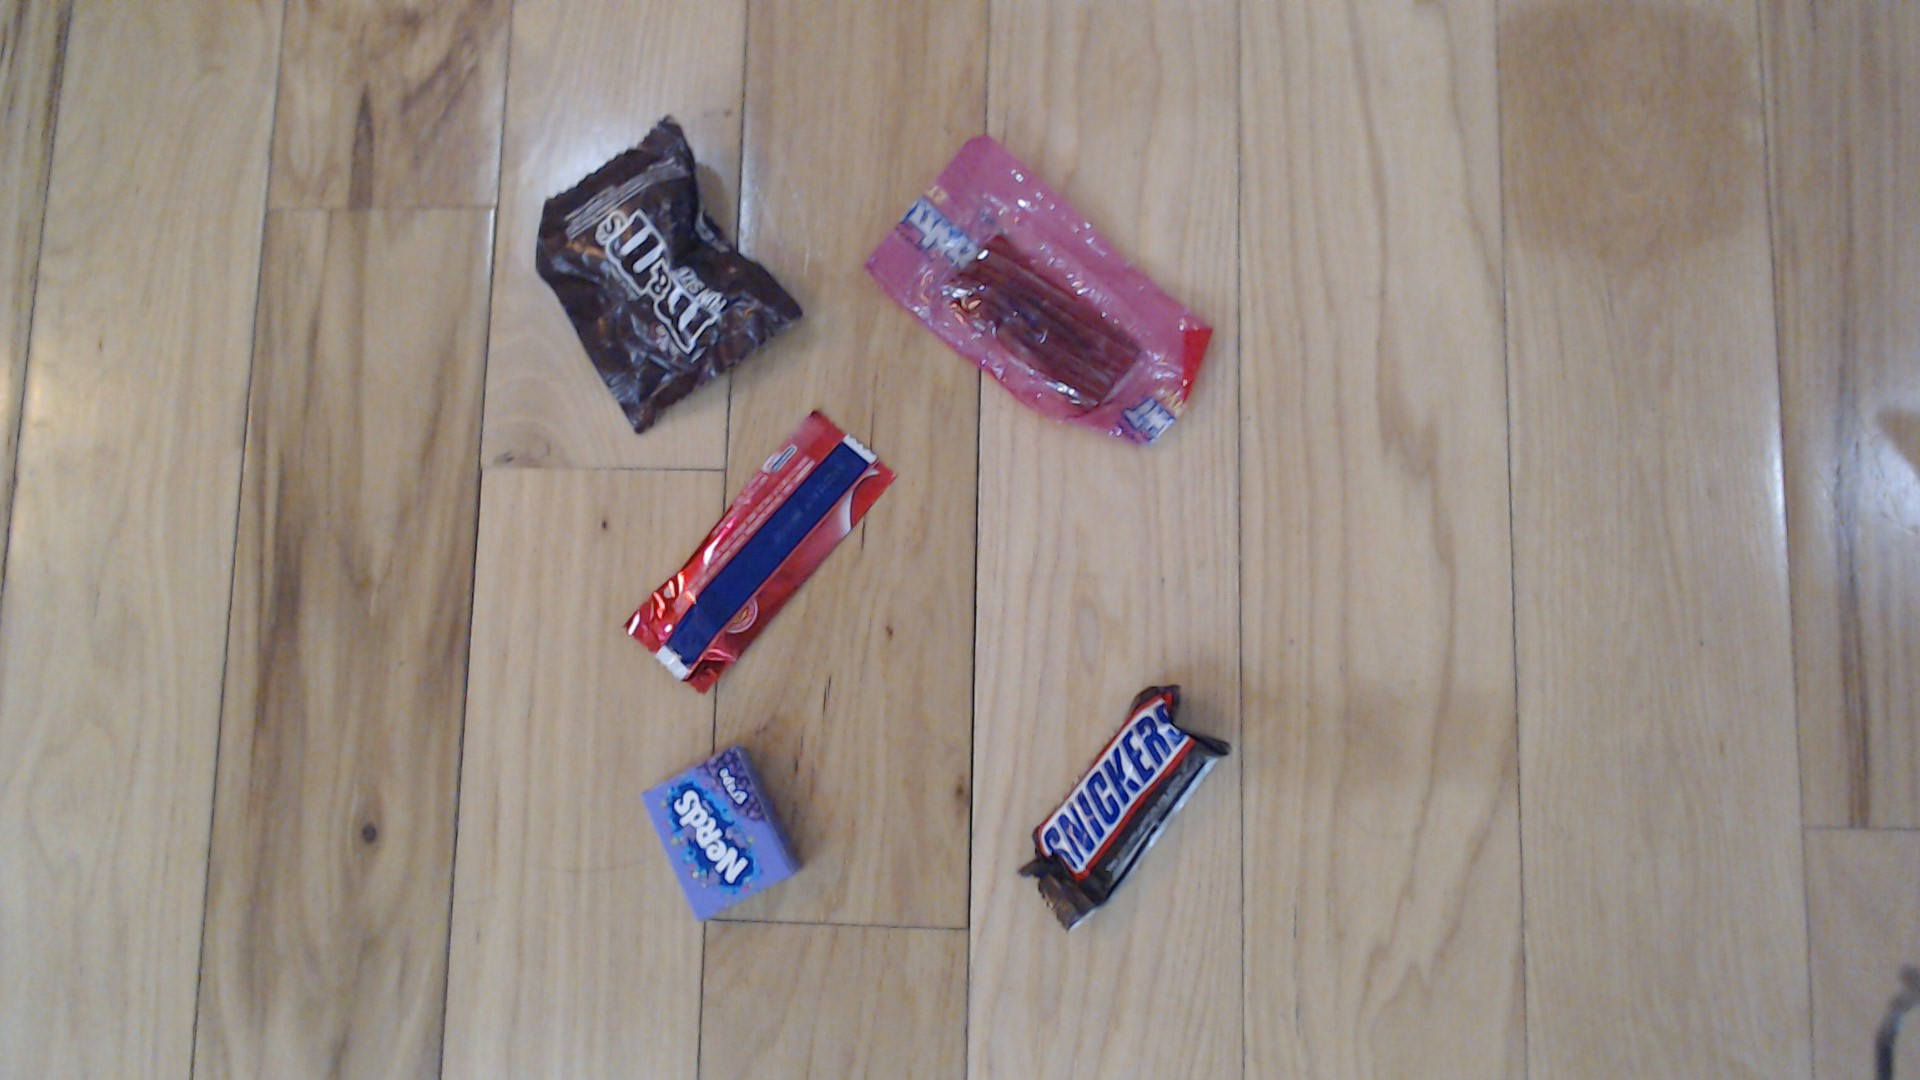MMs_peanut: (520, 87, 823, 425)
nerds: (608, 721, 829, 915)
snickers: (989, 653, 1263, 938)
starbust: (588, 425, 924, 717)
twizzlers: (837, 80, 1245, 464)
